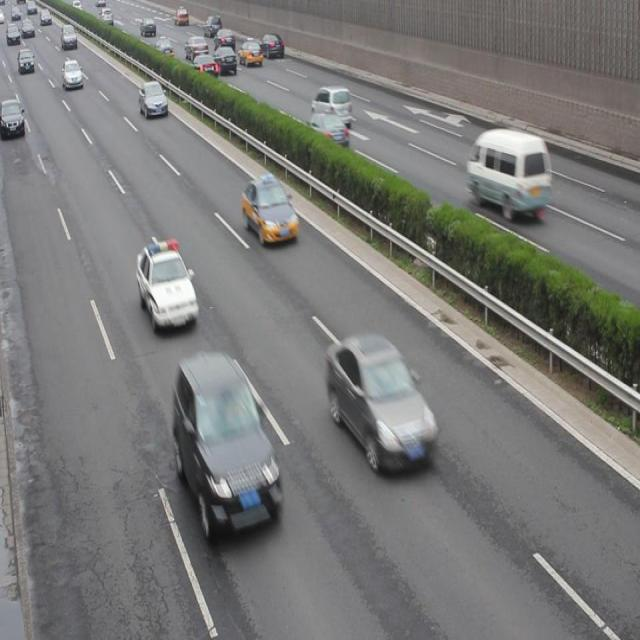car: (174, 354, 280, 534), (326, 332, 436, 472), (137, 239, 197, 332), (241, 173, 297, 247), (305, 113, 348, 155), (311, 85, 352, 127), (139, 79, 168, 120), (2, 97, 26, 139)
truck: (466, 128, 549, 218)
